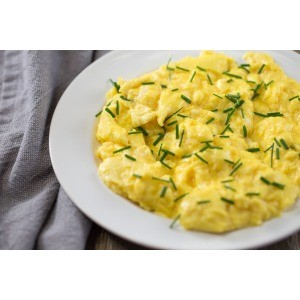egg_brain food: (123, 82, 258, 199)
